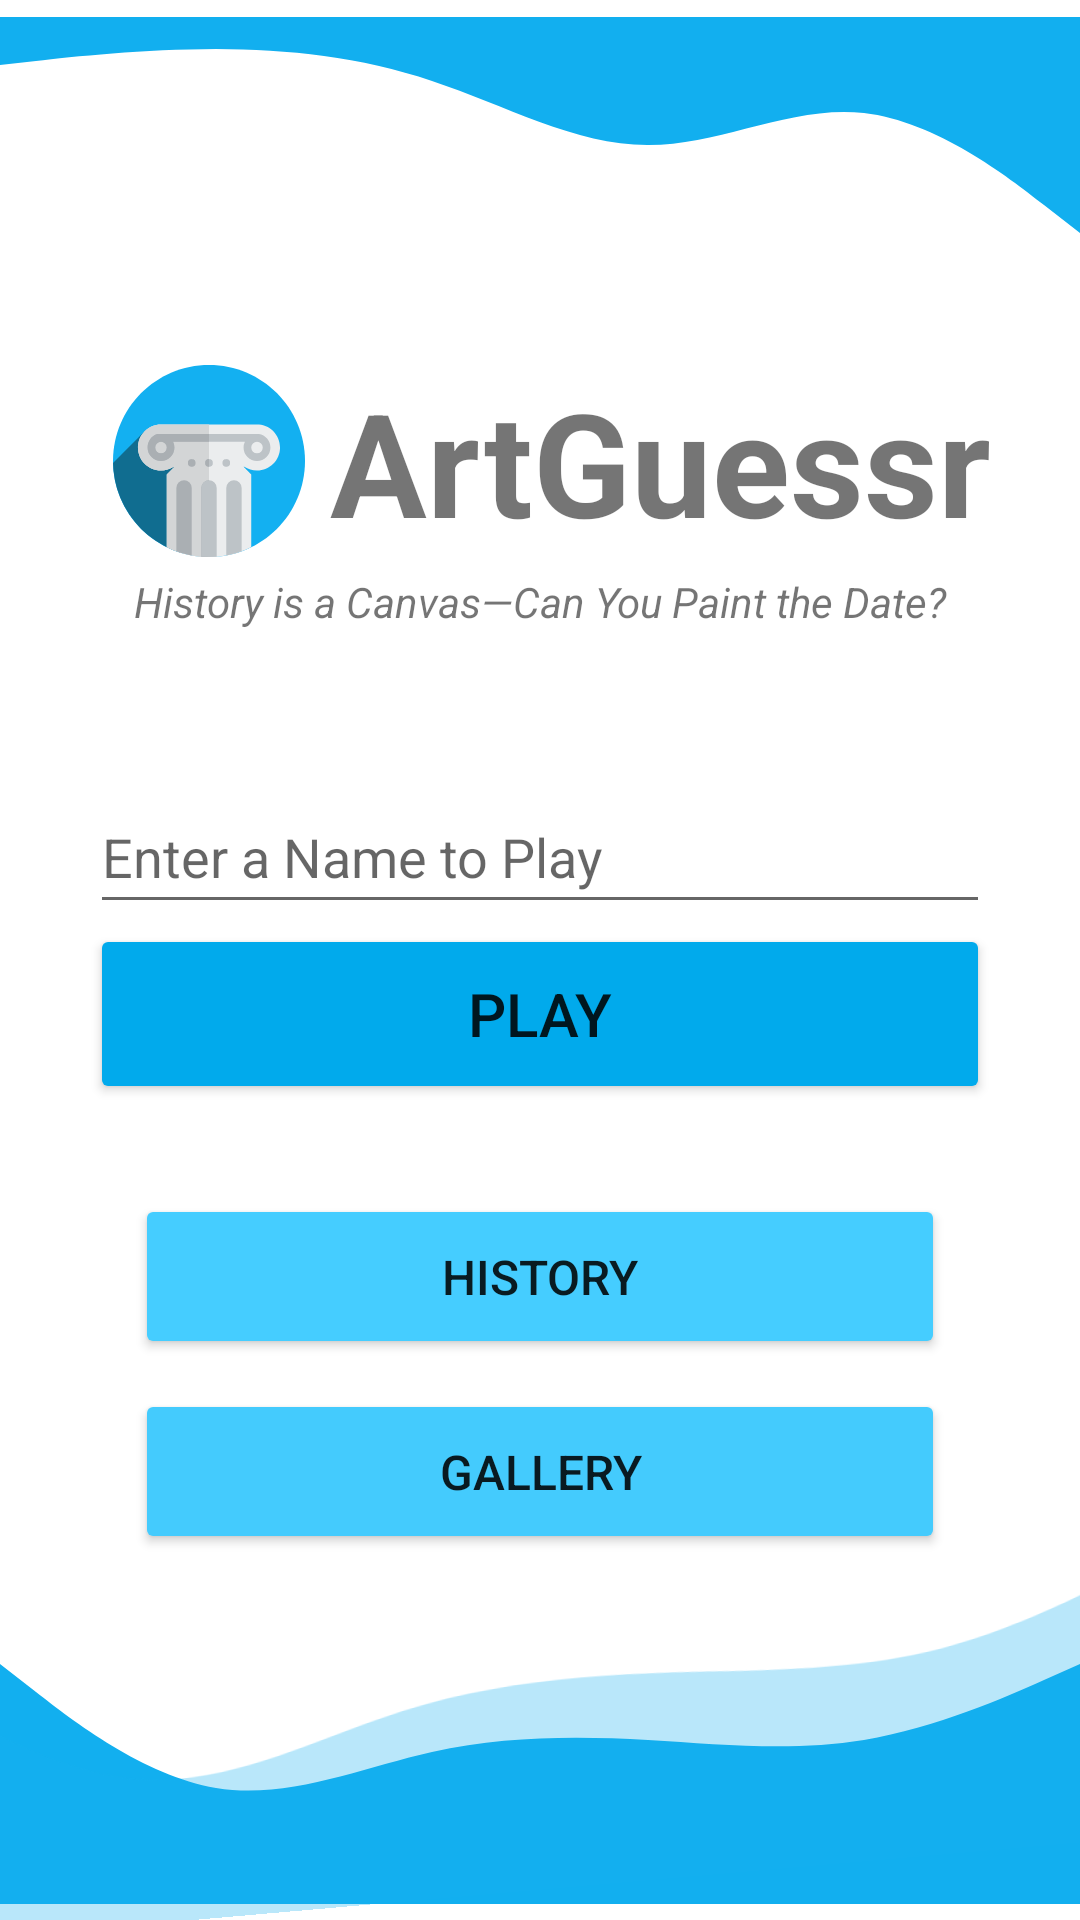

Screen size 1080w x 1920h. Icon name, then its box in pixels as bbox=[x1, y1, x2, y2]:
art: bbox=[113, 365, 305, 557]
